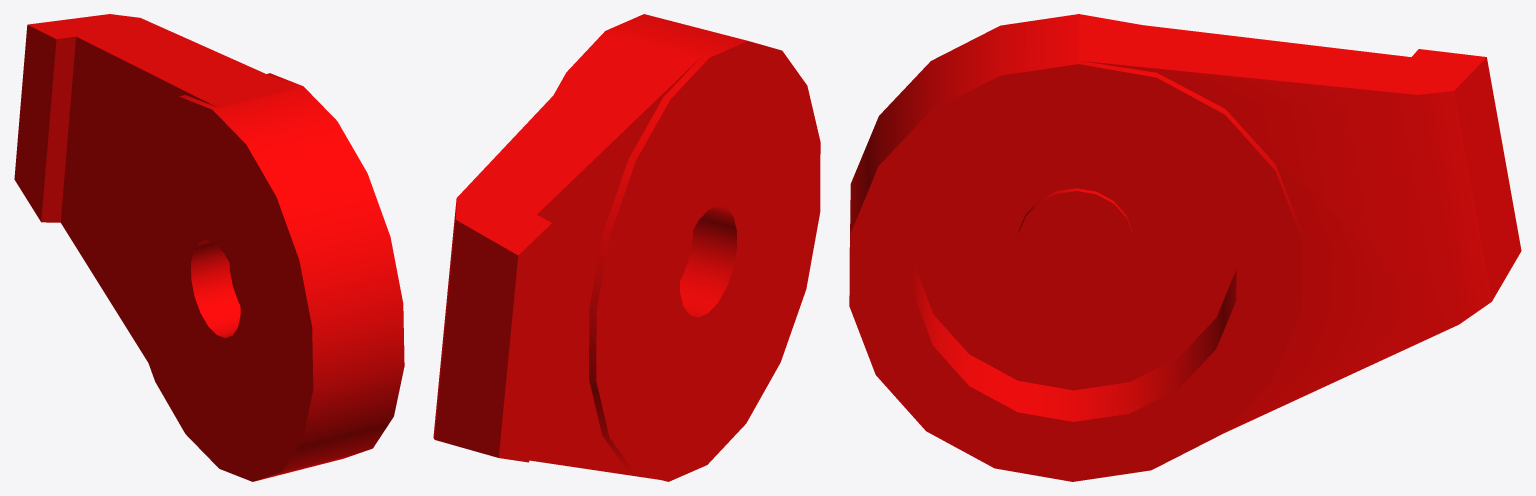
The model's file is original-40.obj.
The picture shows the model from 3 angles, left to right: view 1: azimuth 30°, elevation 25°; view 2: azimuth 150°, elevation 25°; view 3: azimuth 270°, elevation 25°; orthographic projection. The views are drawn at different scales.
Visible parts, largest first — view 1: mesh12/mesh12-geometry#mesh12-geometry; view 2: mesh12/mesh12-geometry#mesh12-geometry; view 3: mesh12/mesh12-geometry#mesh12-geometry.
Boxes of the visible parts, <box> form: mesh12/mesh12-geometry#mesh12-geometry: <box>14,14,404,481</box>; mesh12/mesh12-geometry#mesh12-geometry: <box>433,14,820,481</box>; mesh12/mesh12-geometry#mesh12-geometry: <box>849,14,1521,481</box>.
Size of the model in its own units: 0.00809 by 0.0265 by 0.0388.
